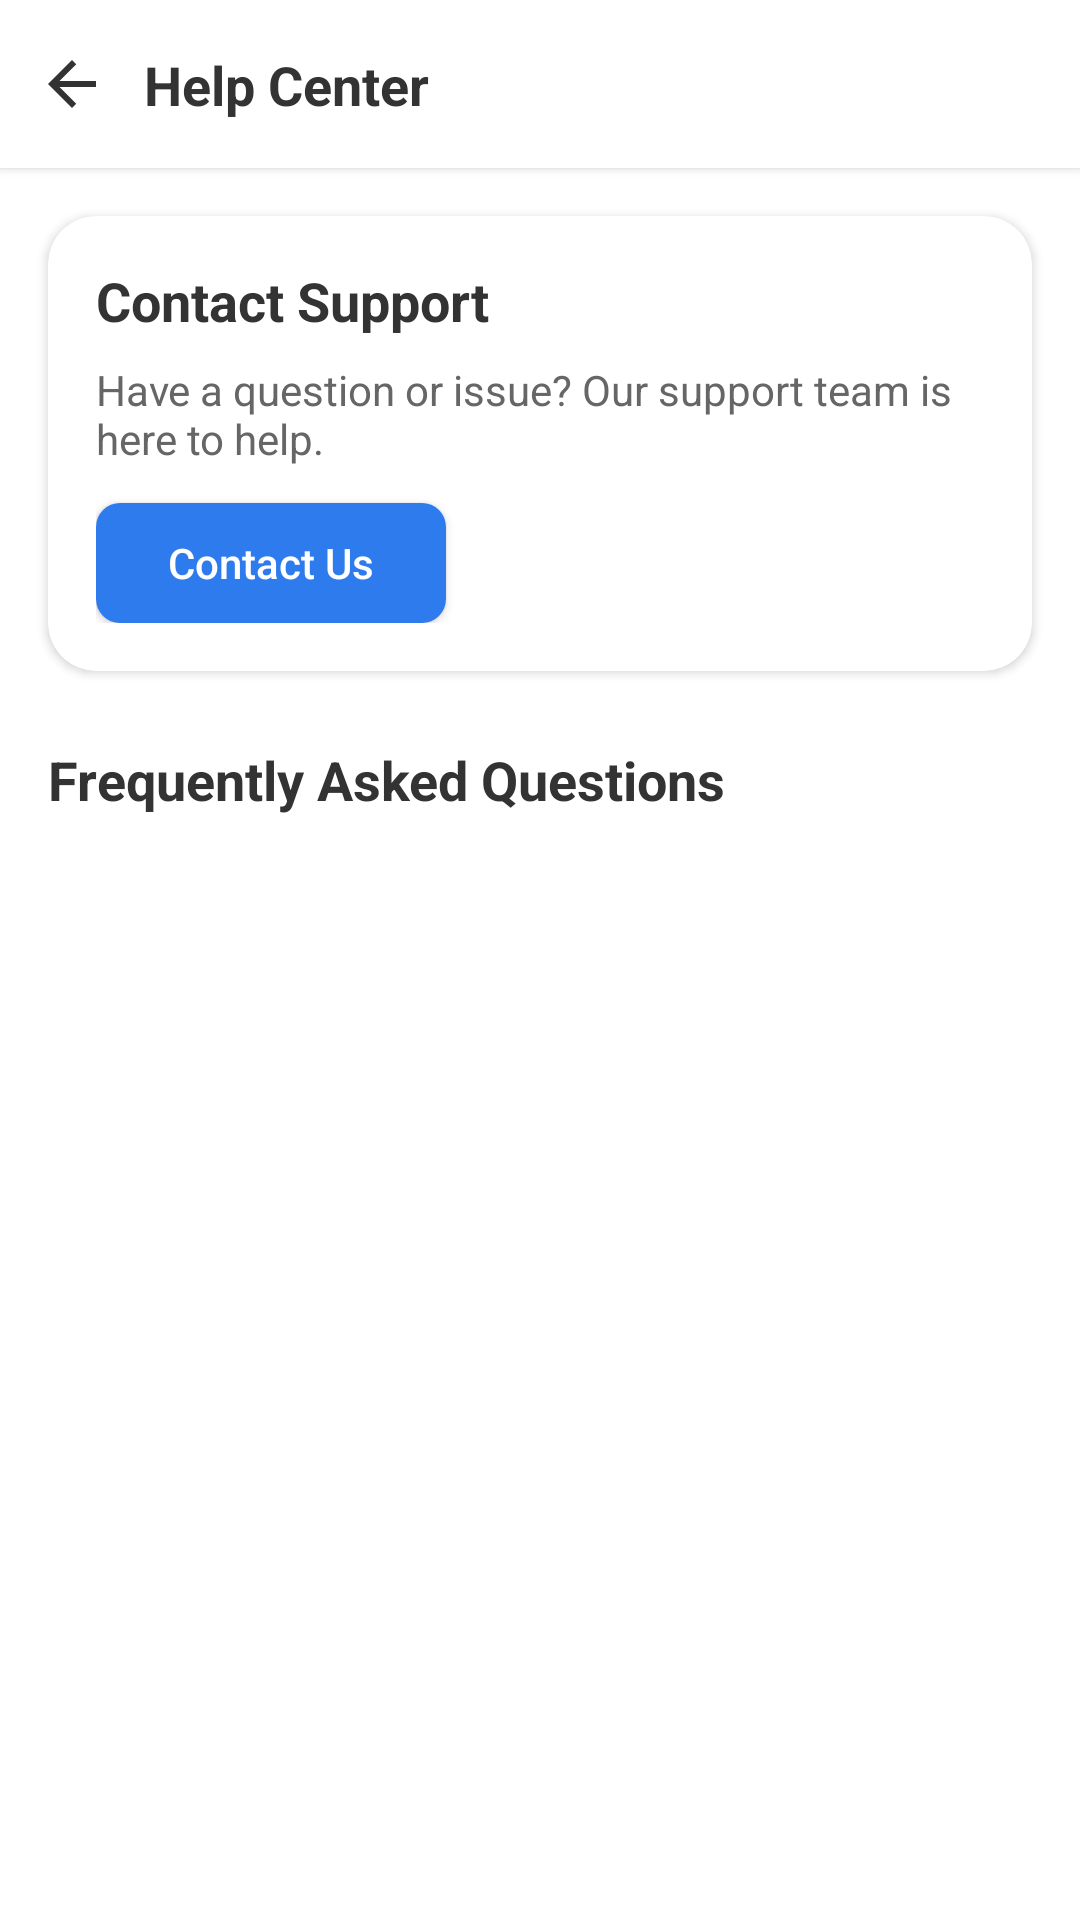

Screen size 1080 x 1920. Icon name, then its box in pixels as (x1, y1, x2, y2):
Back: (48, 60, 96, 108)
